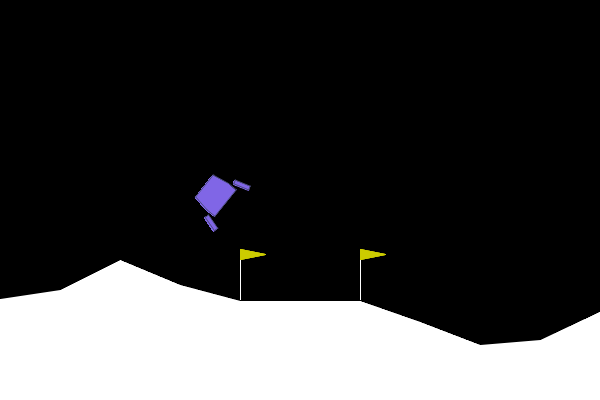lander: (183, 162, 252, 234)
